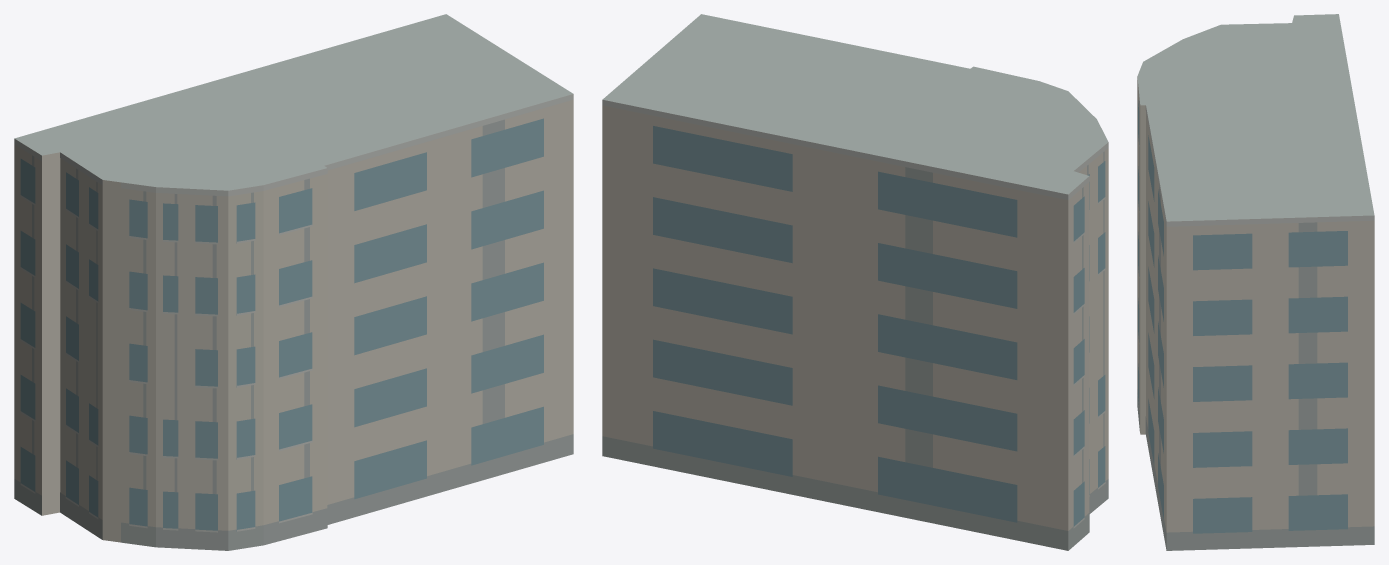
Rendered from survey-upis-32481882.glb.
The picture shows the model from 3 angles, left to right: view 1: azimuth 30°, elevation 25°; view 2: azimuth 150°, elevation 25°; view 3: azimuth 270°, elevation 25°; orthographic projection. The views are drawn at different scales.
Parts seen in each view (by area): view 1: survey-upis-32481882.tmp; view 2: survey-upis-32481882.tmp; view 3: survey-upis-32481882.tmp.
Boxes of the visible parts, x1,y1,x2,y2 form: survey-upis-32481882.tmp: (14,14,573,550); survey-upis-32481882.tmp: (602,14,1108,550); survey-upis-32481882.tmp: (1137,14,1374,550).
Size of the model in its own units: 20.62 by 15.25 by 9.96.
